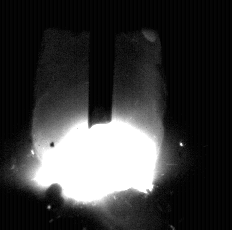arame: (89, 0, 114, 127)
poca: (31, 0, 164, 230)
